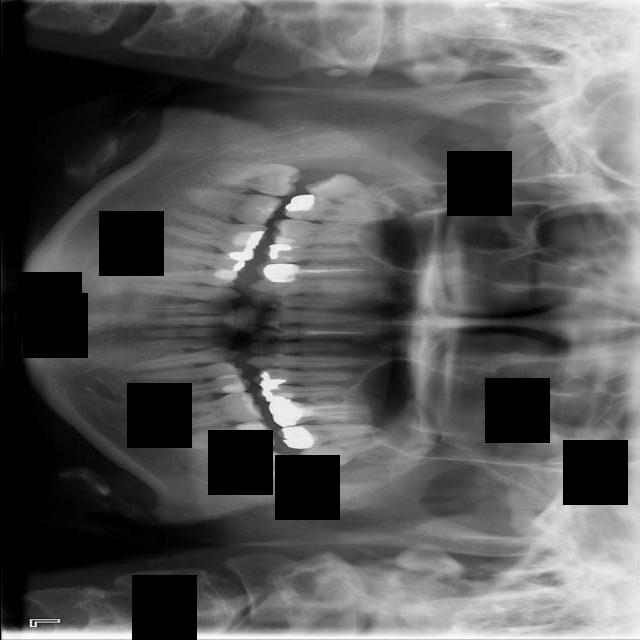3M ESPE Implant: (303, 166, 406, 216)
52: (226, 226, 272, 269), (267, 395, 305, 430), (253, 259, 297, 285), (255, 370, 286, 396), (282, 425, 314, 450), (255, 383, 293, 404), (282, 194, 315, 213), (227, 249, 250, 273), (240, 430, 274, 446), (265, 241, 292, 260), (219, 380, 246, 394), (234, 422, 263, 433), (272, 235, 296, 248), (212, 269, 238, 281), (261, 325, 281, 335), (254, 301, 276, 310), (260, 363, 281, 372), (262, 335, 280, 342), (259, 353, 276, 359), (263, 341, 279, 345), (262, 352, 278, 354)
73: (291, 259, 373, 280), (310, 401, 369, 422), (300, 327, 368, 338), (60, 569, 70, 588)
BioHorizons Implant: (275, 425, 380, 449)
BioLife Implant: (296, 433, 392, 474)
Biomet 3i Implant: (223, 442, 298, 501)
Blue Sky Bio Implant: (174, 420, 274, 450)
Caries: (281, 193, 393, 223)
Implant: (178, 185, 281, 229)
Keystone Dental Implant: (206, 159, 303, 198)
